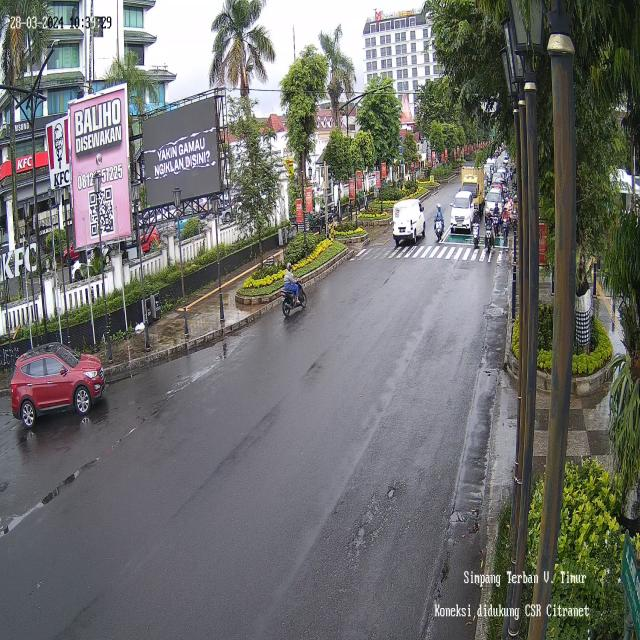car: (11, 345, 106, 427), (392, 198, 427, 244), (450, 193, 474, 234), (484, 186, 503, 222)
motorcycle: (280, 261, 307, 319), (486, 210, 494, 252), (435, 204, 444, 241), (492, 202, 500, 238), (473, 208, 480, 248), (501, 205, 508, 243)
truck: (461, 161, 485, 219)
